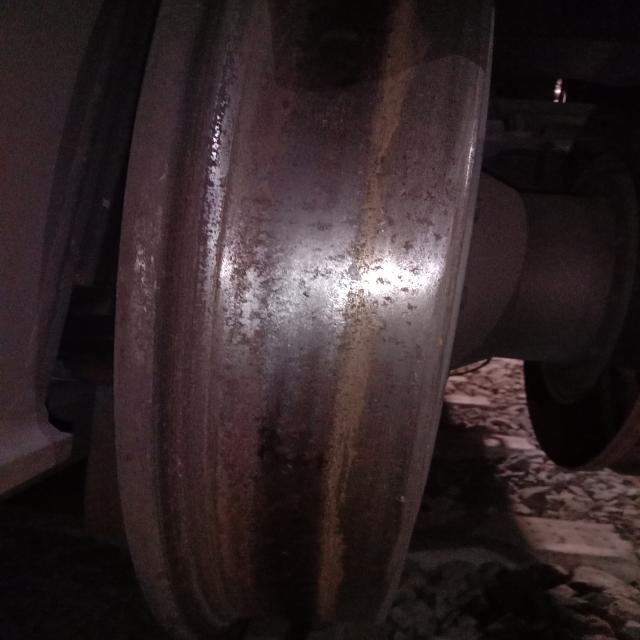flat: (292, 135, 352, 347)
